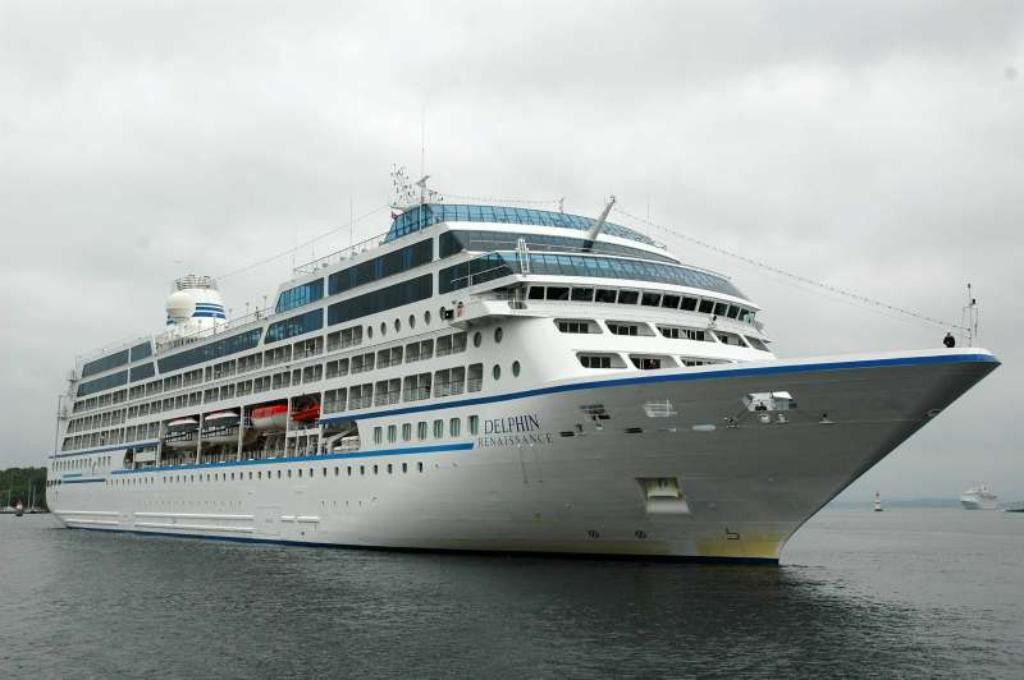PassengerShip: (42, 158, 1006, 570), (952, 478, 1008, 520)
